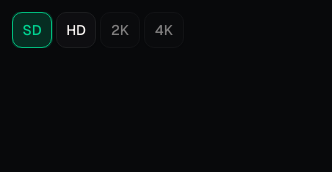
Test case: ResolutionTierSelector › shows 'Not supported' in tooltip for unsupported tiers
Step 1. Hover over the button with test id "tier-4k" → [164, 30], box [144,12,184,48]
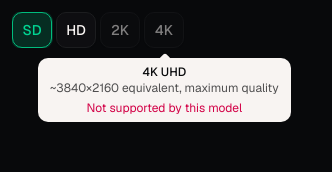
Expected: the text "Not supported by this model" is shown, [86,100,242,116]
